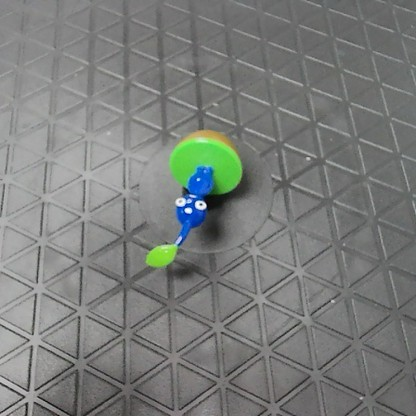leafairy: (140, 125, 248, 270)
